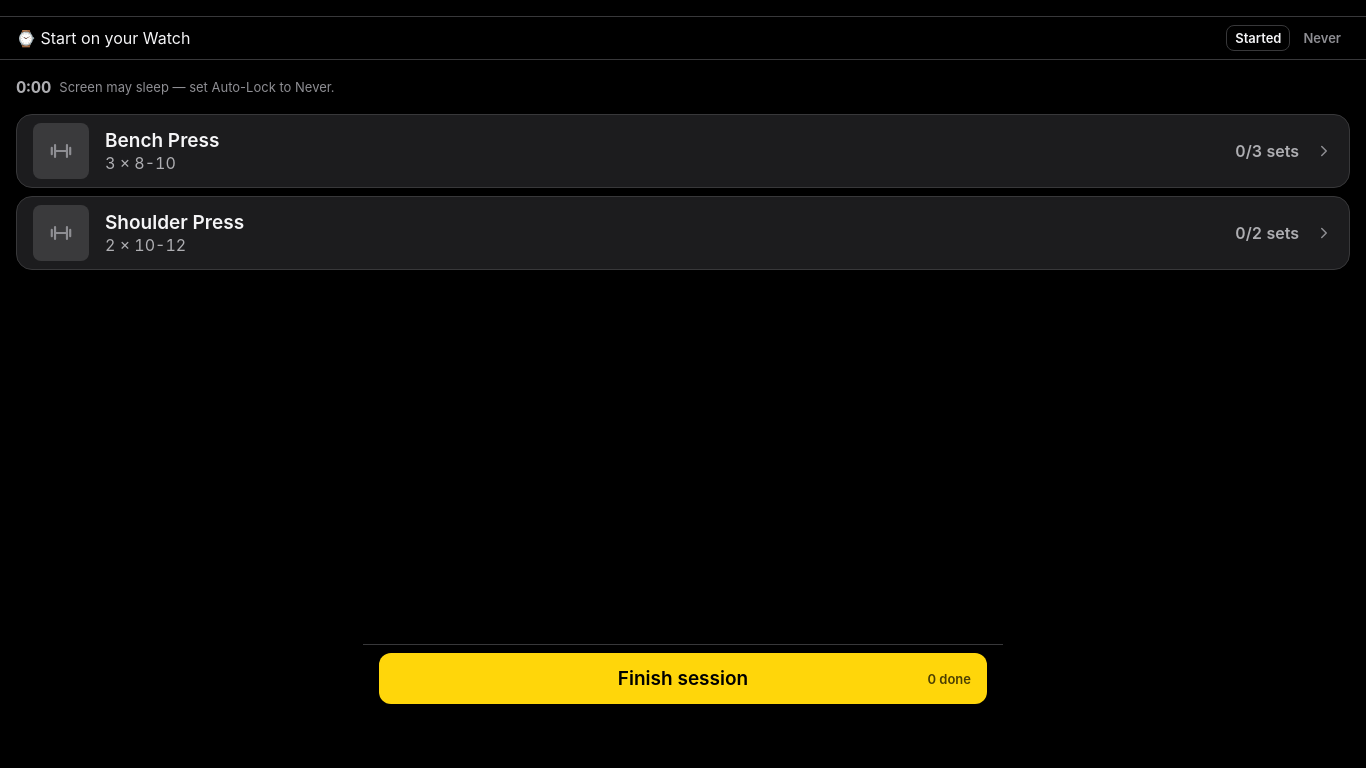
Test case: SessionRunner — the exercise index › opens the second exercise with its own rows
Expected: the text "Shoulder Press" is shown, [105,211,244,234]
Click the button with class "exindex-row" that starts with "Shoulder Press". click: click(61, 233)
box: [16,196,1350,270]
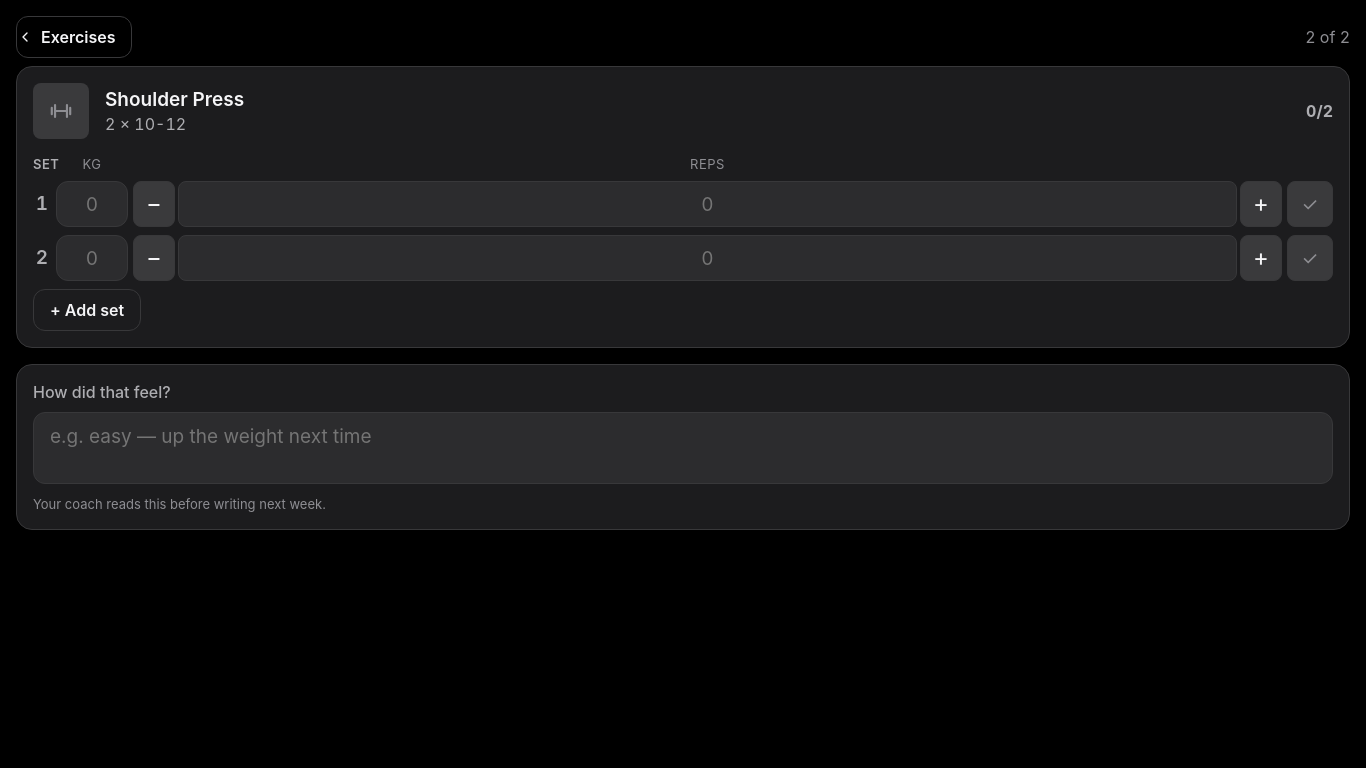
Result: the number field named "Set 1 weight" is shown at [56,181,128,227]
Result: the text "2 of 2" is shown at [1305,26,1350,48]
